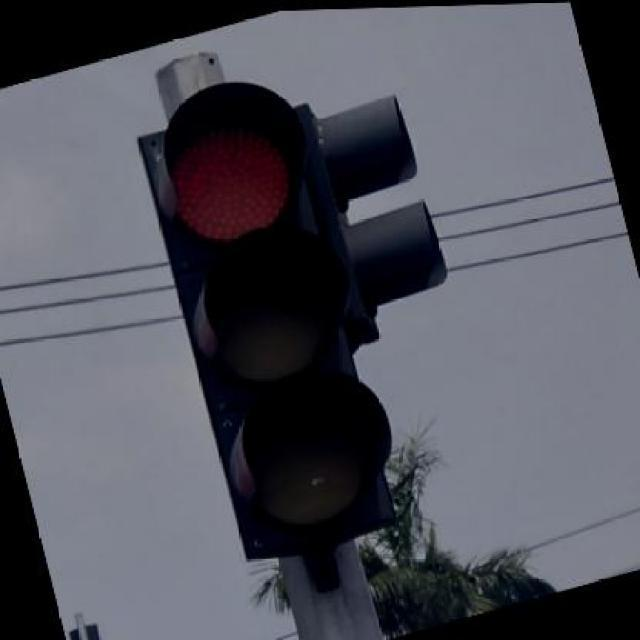red_light: (137, 80, 444, 556)
